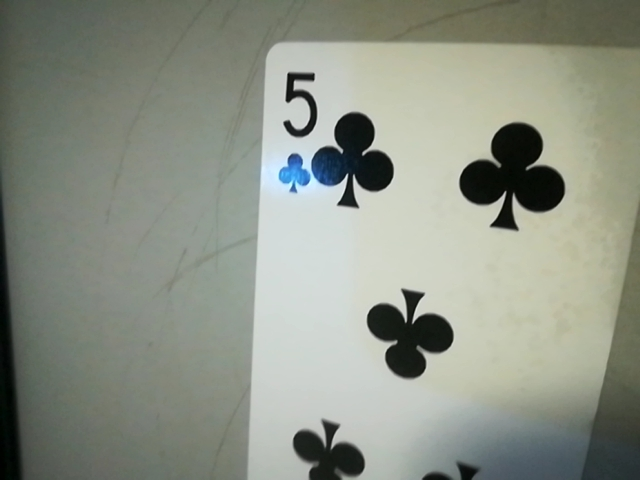mh 5: (266, 61, 323, 194)
